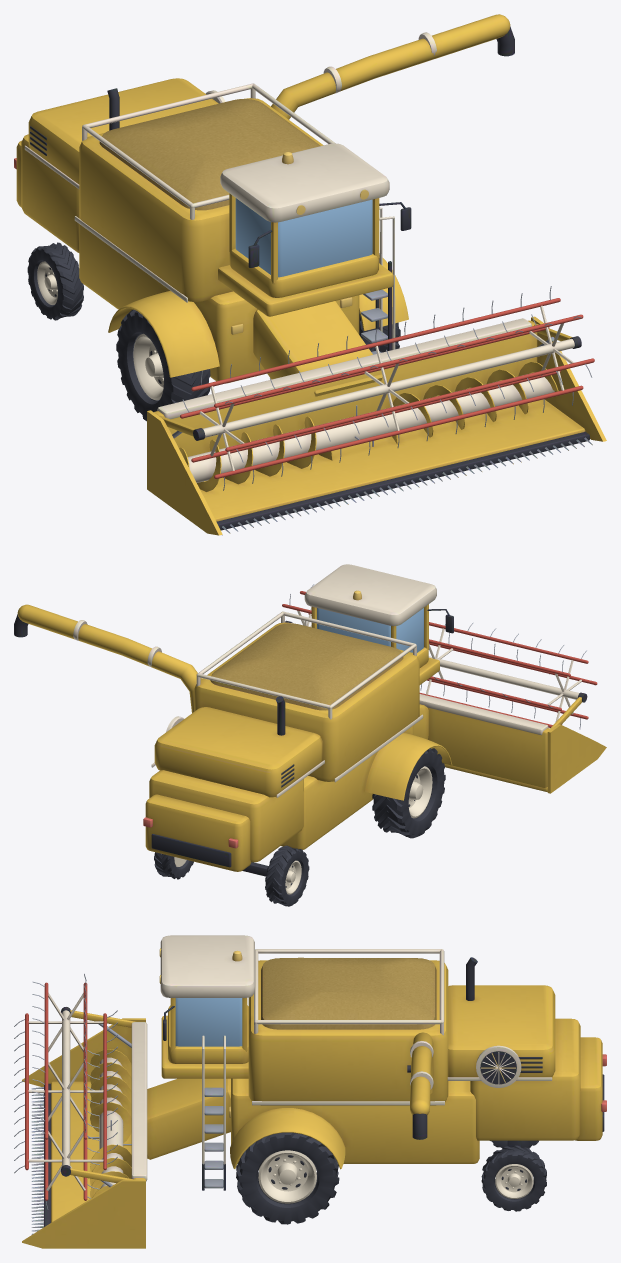
File: combine-harvester.glb
3 renders of one model, top to bottom at view 1: azimuth 30°, elevation 25°; view 2: azimuth 150°, elevation 25°; view 3: azimuth 270°, elevation 25°, orthographic. The views are drawn at different scales.
Visible parts, largest first — view 1: combine-harvester_body, combine-harvester_reel, combine-harvester_cab_glass, combine-harvester_wheel_fr, combine-harvester_wheel_rr; view 2: combine-harvester_body, combine-harvester_reel, combine-harvester_wheel_fr, combine-harvester_cab_glass, combine-harvester_wheel_rr, combine-harvester_wheel_rl; view 3: combine-harvester_body, combine-harvester_wheel_fl, combine-harvester_reel, combine-harvester_wheel_rl, combine-harvester_cab_glass.
Part boxes in pixels (left/top/right/bottom): combine-harvester_body: left=14, top=14, right=606, bottom=535; combine-harvester_reel: left=180, top=286, right=594, bottom=490; combine-harvester_cab_glass: left=235, top=198, right=372, bottom=277; combine-harvester_wheel_fr: left=116, top=309, right=210, bottom=421; combine-harvester_wheel_rr: left=27, top=242, right=83, bottom=320; combine-harvester_body: left=14, top=564, right=606, bottom=876; combine-harvester_reel: left=282, top=584, right=597, bottom=729; combine-harvester_wheel_fr: left=372, top=748, right=445, bottom=838; combine-harvester_cab_glass: left=317, top=608, right=423, bottom=652; combine-harvester_wheel_rr: left=265, top=845, right=309, bottom=906; combine-harvester_wheel_rl: left=154, top=852, right=193, bottom=879; combine-harvester_body: left=22, top=935, right=606, bottom=1248; combine-harvester_wheel_fl: left=236, top=1132, right=339, bottom=1224; combine-harvester_reel: left=14, top=973, right=117, bottom=1209; combine-harvester_wheel_rl: left=481, top=1145, right=546, bottom=1211; combine-harvester_cab_glass: left=175, top=998, right=242, bottom=1046.
Size of the model in its own units: 8.3 by 3.99 by 9.42.
Materials: 15 (2 with a texture image).
